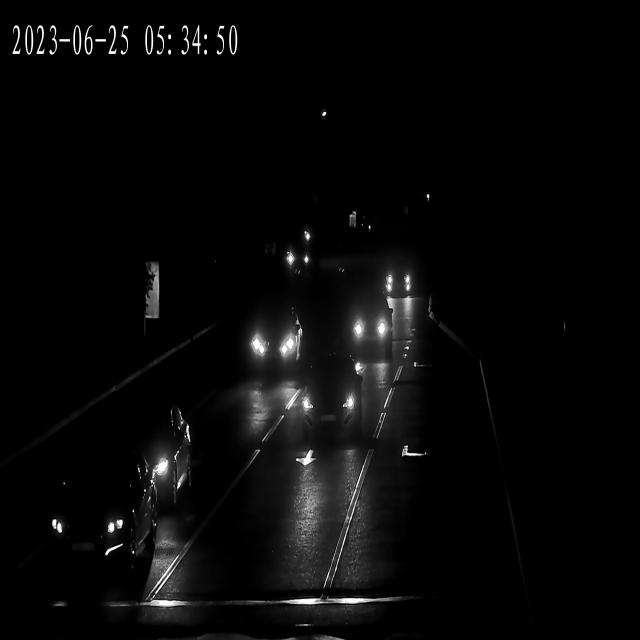Car: (47, 454, 151, 586), (113, 382, 197, 516), (300, 361, 364, 449), (240, 300, 308, 381), (352, 288, 395, 355), (382, 254, 410, 298), (286, 242, 312, 279)
